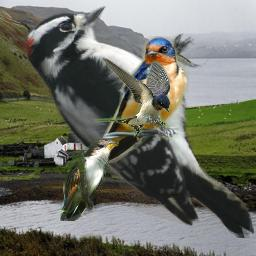Cuckoo: (60, 139, 119, 221)
Swallow: (89, 36, 189, 166), (95, 56, 170, 136)
Woodpecker: (25, 6, 254, 238)
